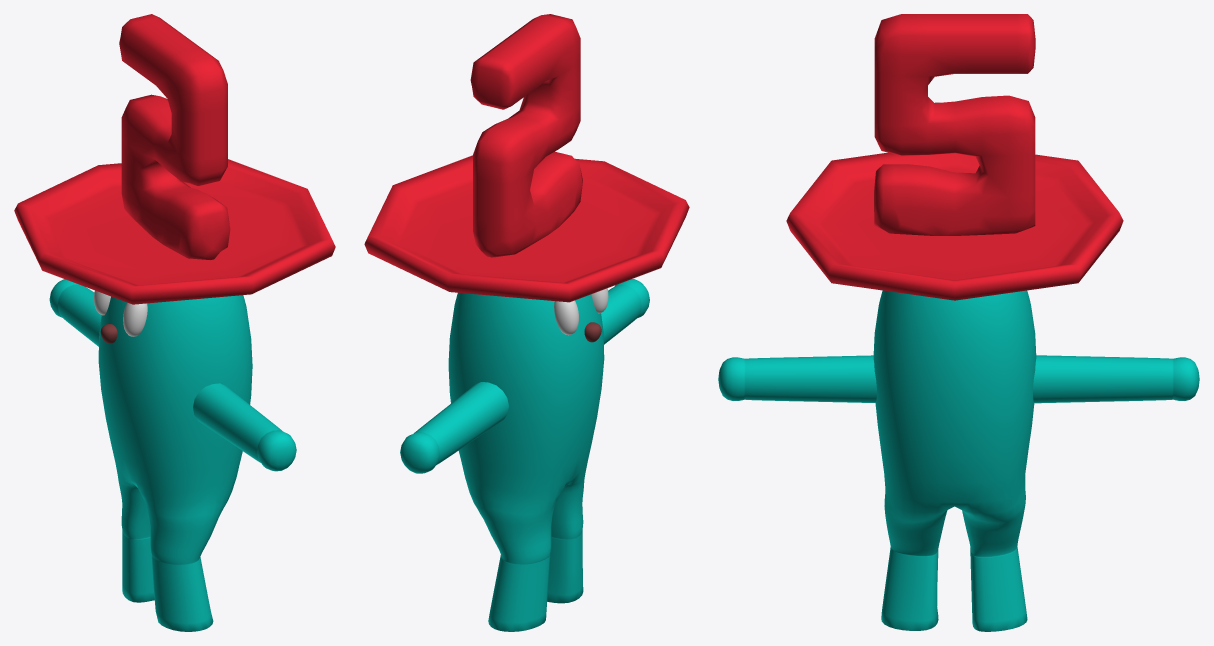
File: numero 5.fbx
3 views of the same model, side by side, from view 1: azimuth 30°, elevation 25°; view 2: azimuth 150°, elevation 25°; view 3: azimuth 270°, elevation 25° (orthographic). The views are drawn at different scales.
Visible parts, largest first — view 1: polySurface26; view 2: polySurface26; view 3: polySurface26.
Boxes of the visible parts, bbox=[...] form: polySurface26: bbox=[14, 14, 335, 631]; polySurface26: bbox=[364, 14, 689, 631]; polySurface26: bbox=[718, 14, 1199, 631].
Bounding box in the file's own units: 73.36 × 145 × 105.
